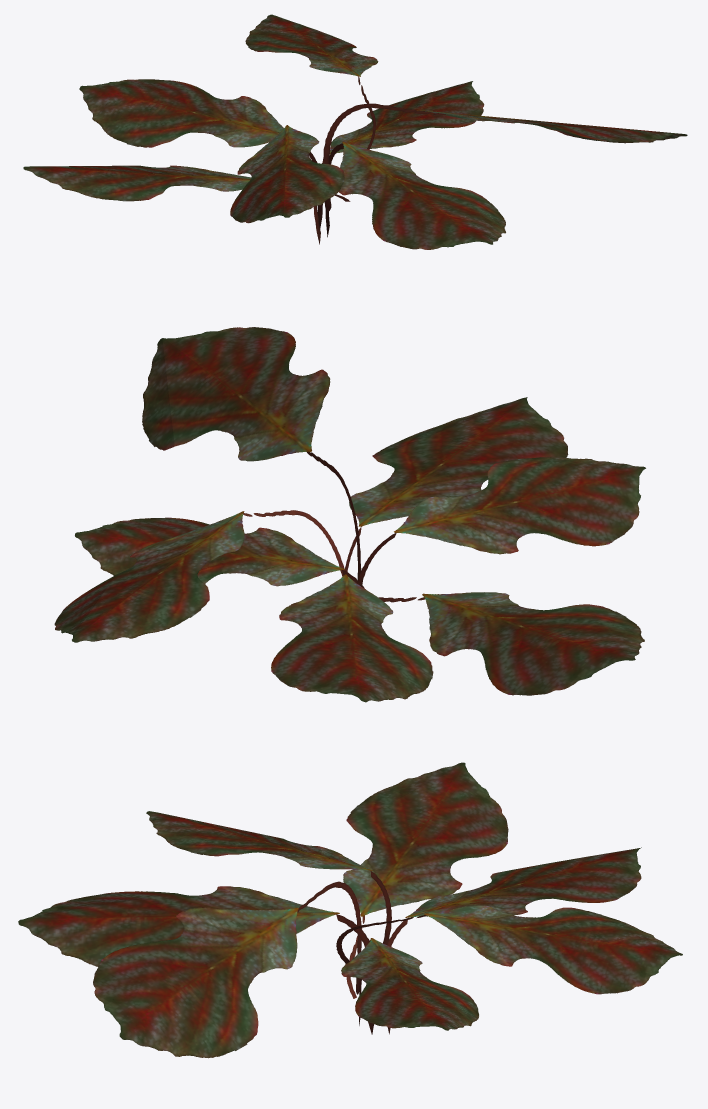
The model's file is Row Root D5.fbx.
The picture shows the model from 3 angles, top to bottom: view 1: azimuth 30°, elevation 25°; view 2: azimuth 150°, elevation 25°; view 3: azimuth 270°, elevation 25°; orthographic projection. The views are drawn at different scales.
Visible parts, largest first — view 1: Row Root D5; view 2: Row Root D5; view 3: Row Root D5.
Boxes of the visible parts, box(x1,y1,x2,y2) form: Row Root D5: box(23, 14, 687, 249); Row Root D5: box(54, 327, 645, 702); Row Root D5: box(18, 762, 682, 1058).
Size of the model in its own units: 206 by 59.62 by 186.
